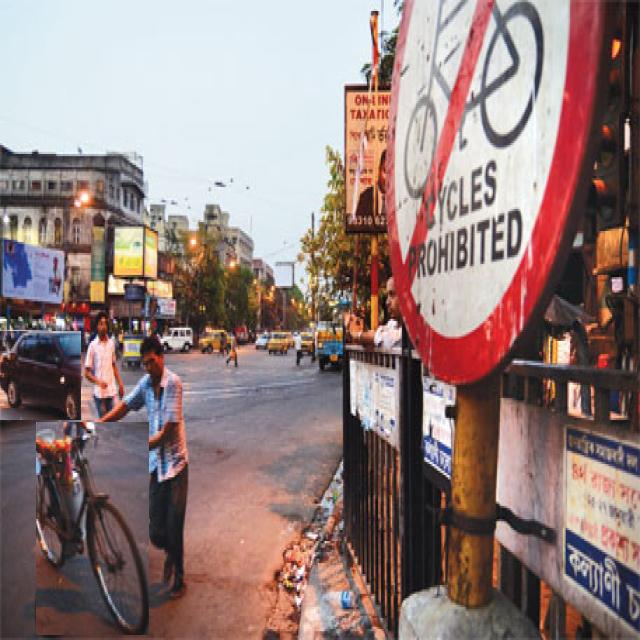bicycle: (36, 422, 149, 635)
car: (0, 332, 81, 420)
